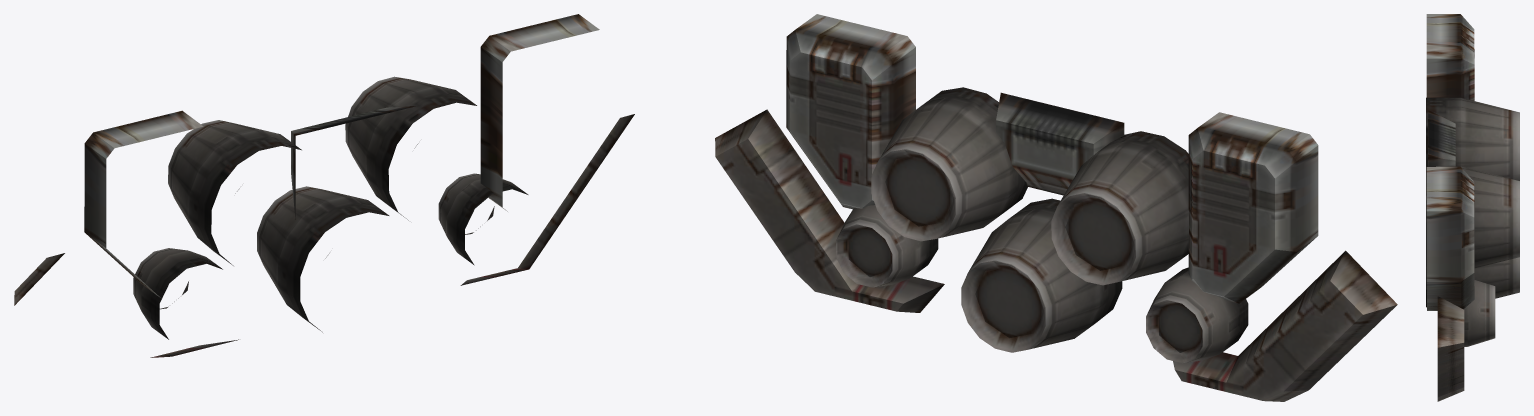
The model's file is engine_hgn_battlecruiser_02_ion_02_t3.glb.
The picture shows the model from 3 angles, left to right: view 1: azimuth 30°, elevation 25°; view 2: azimuth 150°, elevation 25°; view 3: azimuth 270°, elevation 25°; orthographic projection. The views are drawn at different scales.
Parts seen in each view (by area): view 1: ion_engine_bc_m_01; view 2: ion_engine_bc_m_01; view 3: ion_engine_bc_m_01.
Boxes of the visible parts, bbox=[...] form: ion_engine_bc_m_01: bbox=[14, 14, 634, 357]; ion_engine_bc_m_01: bbox=[715, 14, 1397, 401]; ion_engine_bc_m_01: bbox=[1426, 14, 1519, 401].
Size of the model in its own units: 2.48 by 0.9273 by 0.3789.
Materials: 1 (1 with a texture image).
